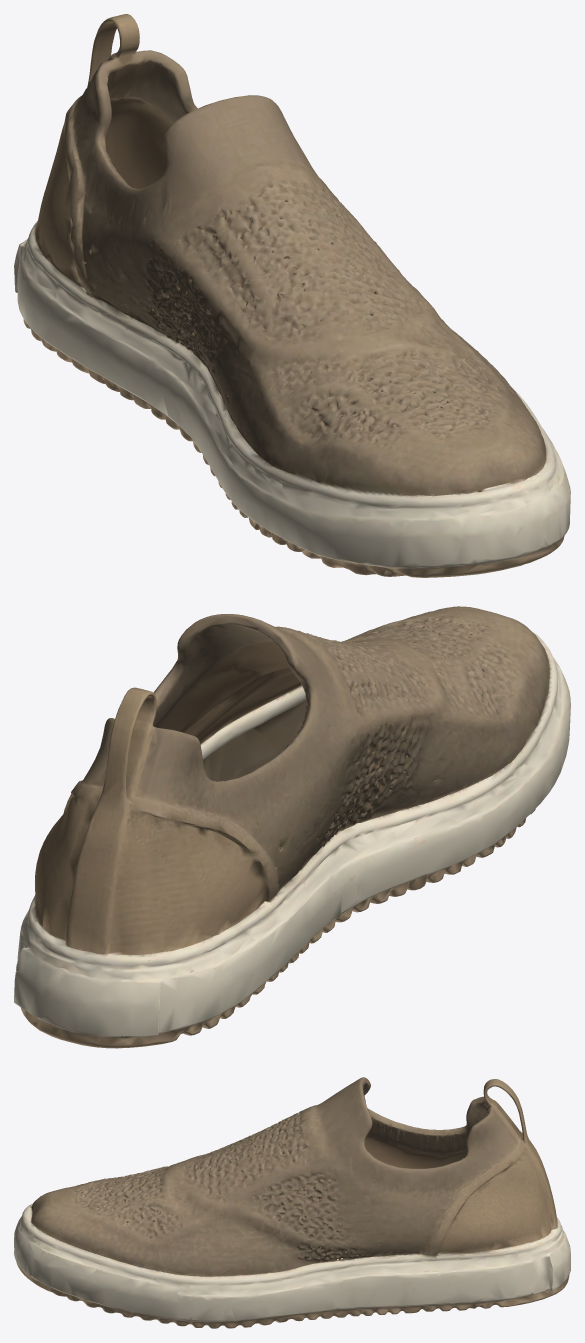
The model's file is brisa.glb.
3 views of the same model, one above another, from view 1: azimuth 30°, elevation 25°; view 2: azimuth 150°, elevation 25°; view 3: azimuth 270°, elevation 25° (orthographic). The views are drawn at different scales.
Parts seen in each view (by area): view 1: geometry_0; view 2: geometry_0; view 3: geometry_0.
Boxes of the visible parts, left/top/right/bottom form: geometry_0: left=14, top=14, right=570, bottom=577; geometry_0: left=14, top=606, right=570, bottom=1048; geometry_0: left=14, top=1077, right=570, bottom=1328.
Bounding box in the file's own units: 0.3777 × 0.3971 × 1.
1 material, 1 textured.
